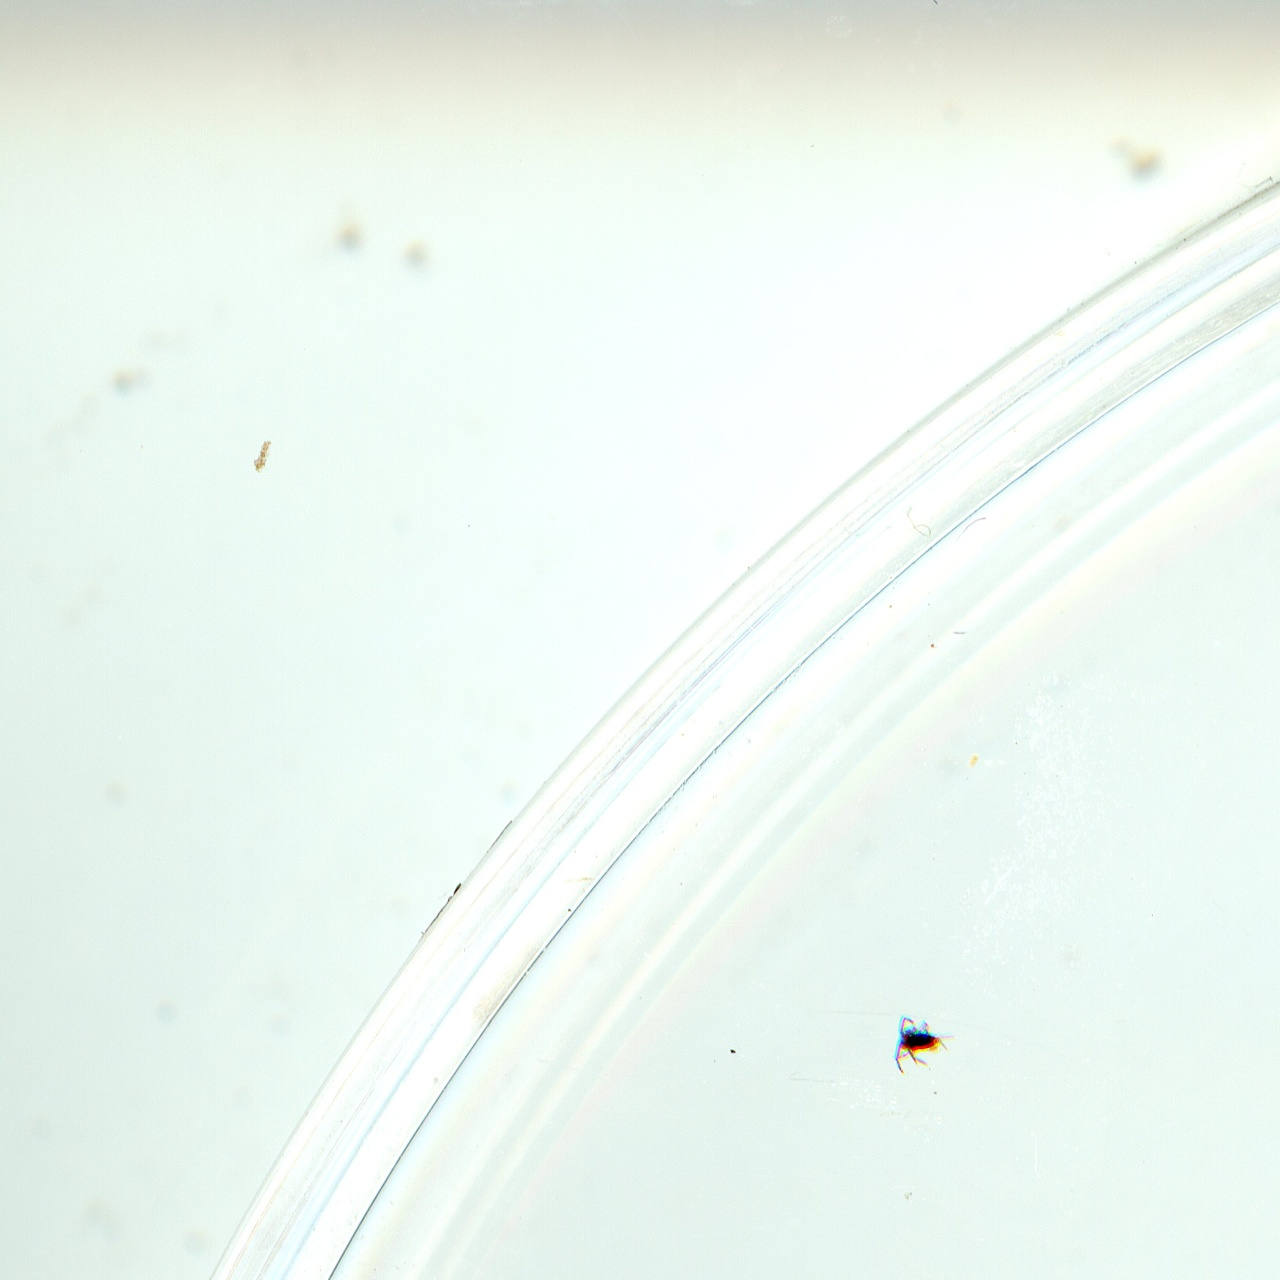arthropod: (887, 1012, 959, 1077)
